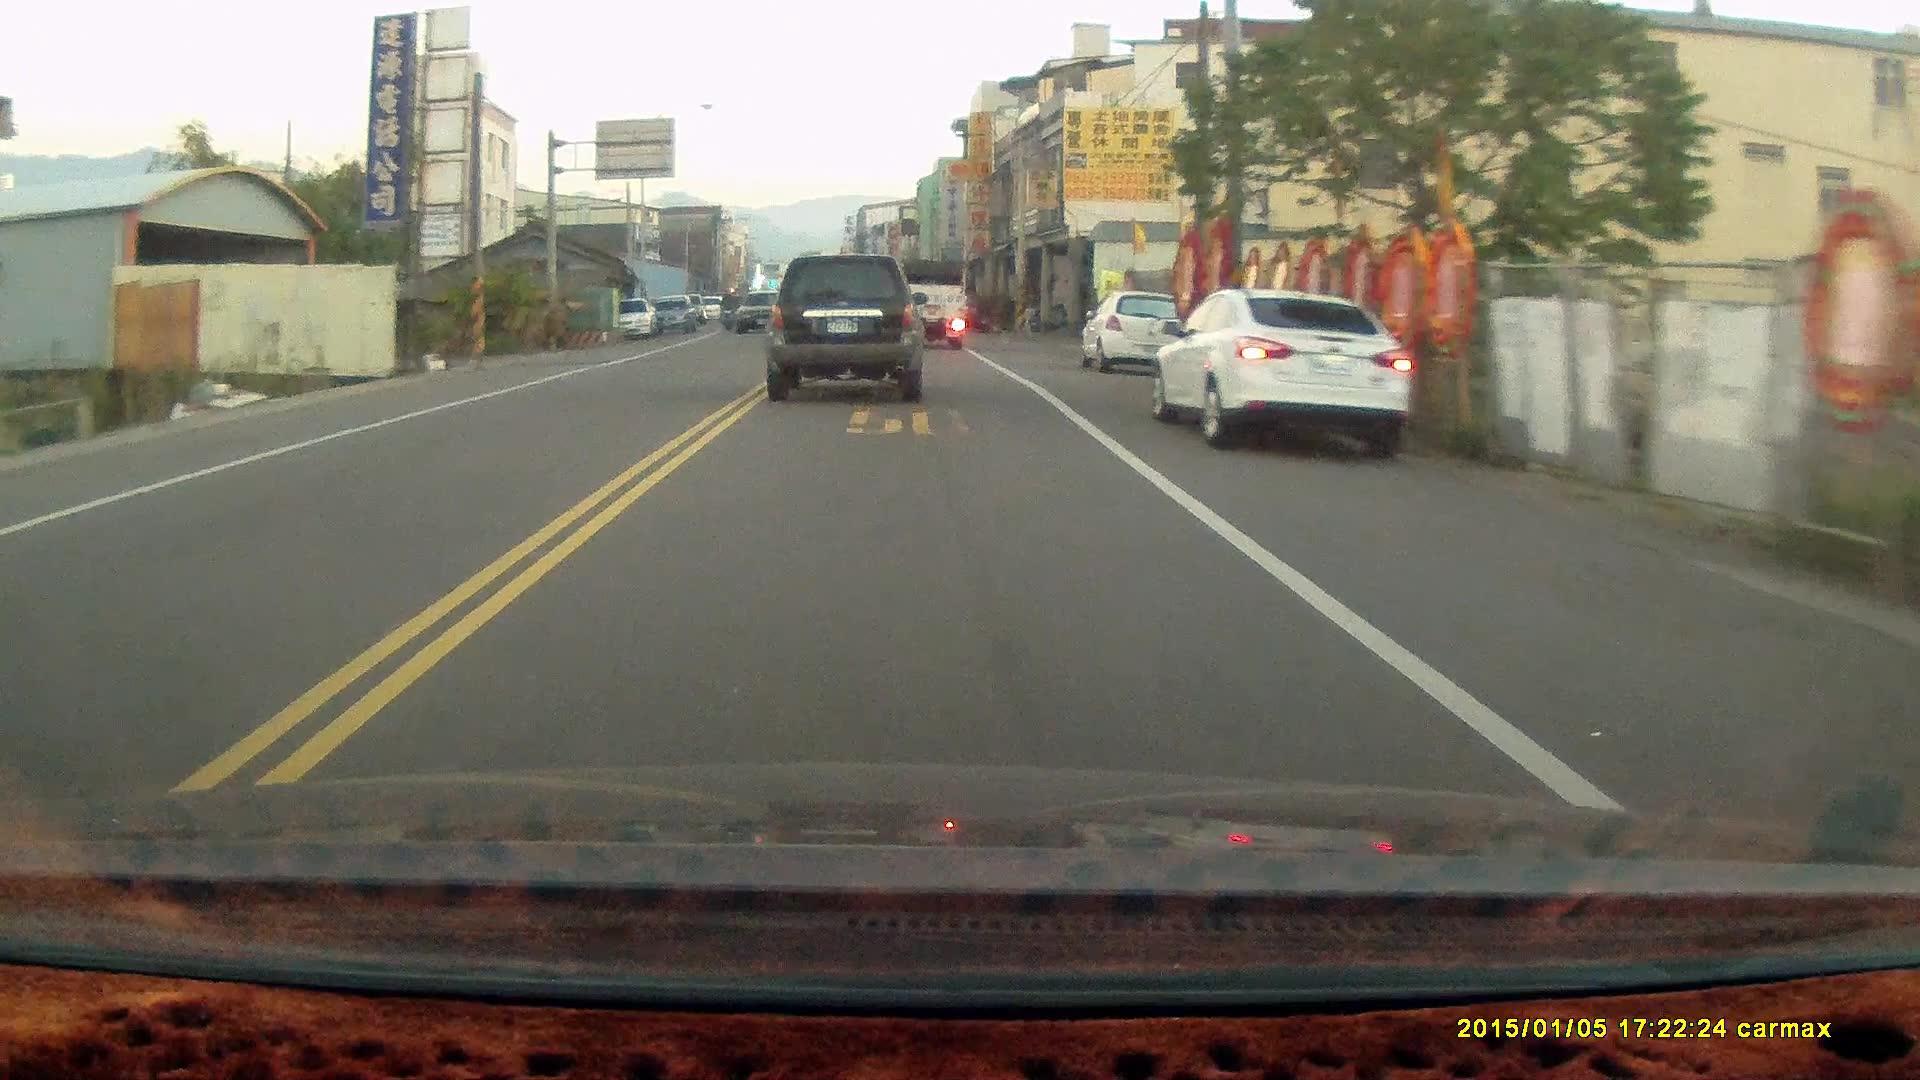vehicle: (1154, 290, 1414, 450), (767, 255, 928, 404), (1083, 290, 1184, 375), (894, 256, 971, 349)
